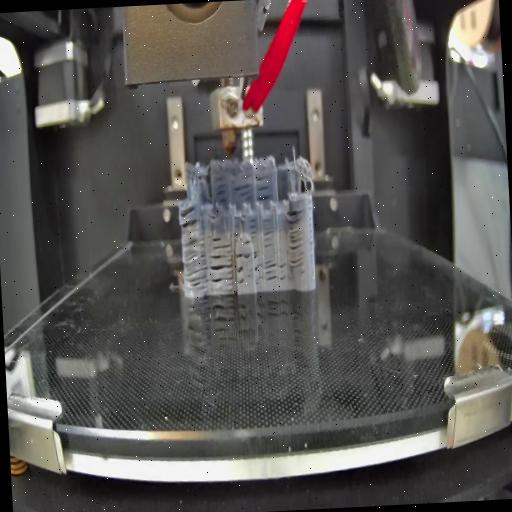cracks: (183, 240, 209, 292), (210, 252, 234, 293), (288, 208, 304, 268), (179, 202, 200, 234), (264, 259, 289, 282), (234, 177, 254, 202), (256, 175, 272, 204), (262, 217, 274, 252), (214, 175, 228, 202), (254, 247, 262, 289), (212, 235, 232, 250), (232, 212, 241, 237), (234, 248, 252, 260), (237, 266, 246, 286), (249, 218, 258, 236), (243, 240, 252, 244)
